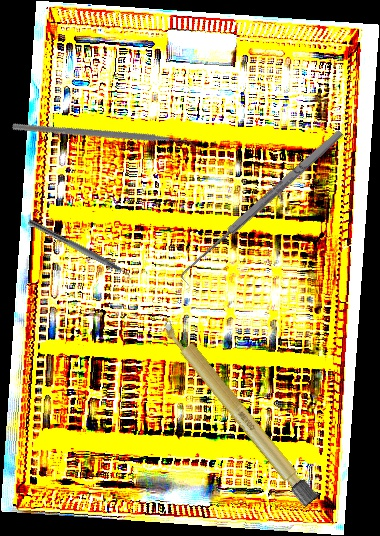Chopper: (9, 53, 203, 227), (23, 218, 140, 288)
Hook Surgical: (175, 126, 351, 288)
Scalpel Handle: (158, 315, 320, 508)
